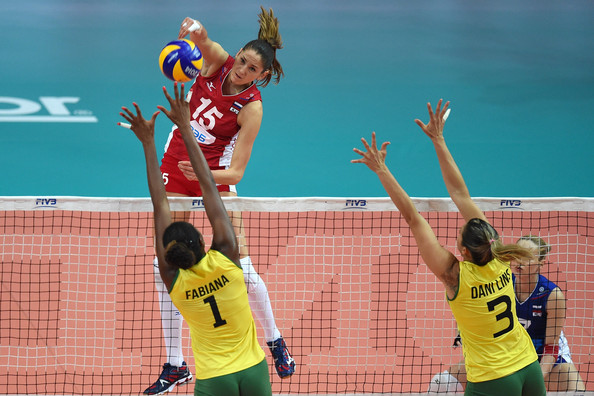volleyball: (160, 38, 203, 83)
